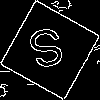S: (25, 25, 70, 79)
